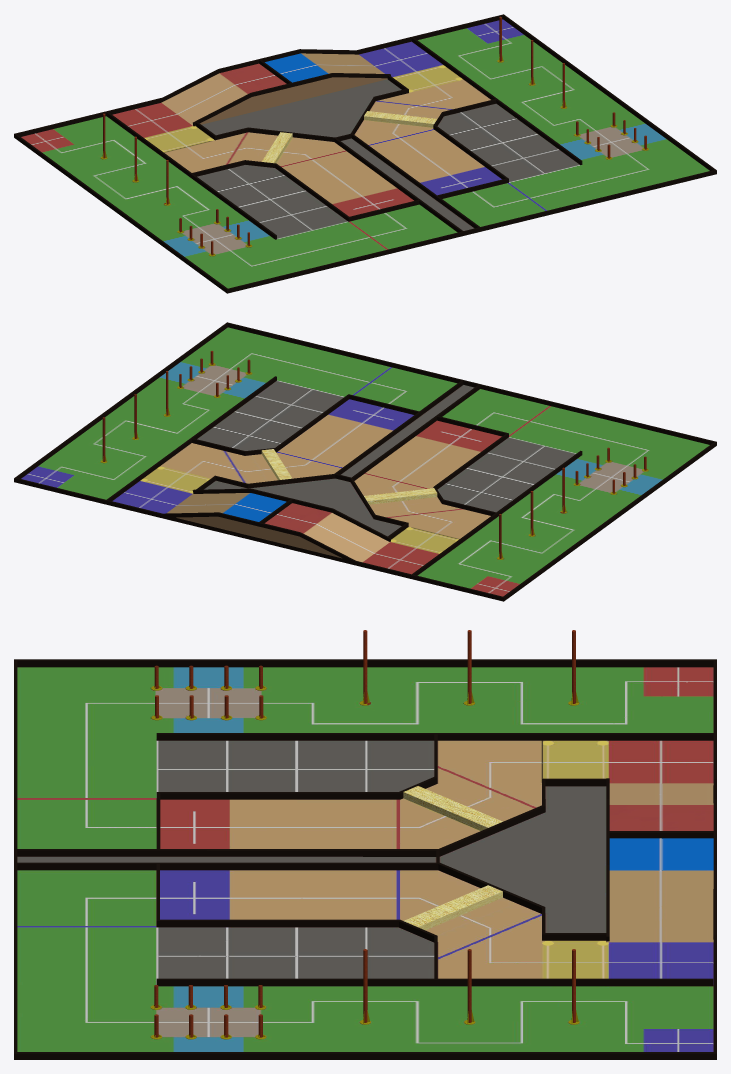
The model's file is Gamefieldv1.obj.
The picture shows the model from 3 angles, top to bottom: view 1: azimuth 30°, elevation 25°; view 2: azimuth 150°, elevation 25°; view 3: azimuth 270°, elevation 25°; orthographic projection. The views are drawn at different scales.
Visible parts, largest first — view 1: FloorPlane_Plane, Fences_Cube.002, Bridge_Cube.030, SandDune_Cube.032, ForestPole_Cube.044, BridgePole_Cylinder.054; view 2: FloorPlane_Plane, Fences_Cube.002, Bridge_Cube.030, SandDune_Cube.032, ForestPole_Cube.044, BridgePole_Cylinder.054; view 3: FloorPlane_Plane, Fences_Cube.002, Bridge_Cube.030, SandDune_Cube.032, ForestPole_Cube.044, BridgePole_Cylinder.054, BridgePoleBase_Cylinder.060.
Part boxes in pixels (bbox=[...]): FloorPlane_Plane: bbox=[21, 19, 709, 288]; Fences_Cube.002: bbox=[14, 14, 716, 293]; Bridge_Cube.030: bbox=[161, 53, 387, 126]; SandDune_Cube.032: bbox=[262, 111, 437, 163]; ForestPole_Cube.044: bbox=[103, 16, 564, 204]; BridgePole_Cylinder.054: bbox=[179, 112, 646, 255]; FloorPlane_Plane: bbox=[21, 327, 709, 596]; Fences_Cube.002: bbox=[14, 322, 716, 601]; Bridge_Cube.030: bbox=[167, 493, 390, 562]; SandDune_Cube.032: bbox=[261, 449, 437, 504]; ForestPole_Cube.044: bbox=[102, 371, 565, 558]; BridgePole_Cylinder.054: bbox=[179, 351, 646, 493]; FloorPlane_Plane: bbox=[17, 667, 713, 1051]; Fences_Cube.002: bbox=[14, 659, 716, 1059]; Bridge_Cube.030: bbox=[606, 783, 713, 942]; SandDune_Cube.032: bbox=[403, 786, 502, 930]; ForestPole_Cube.044: bbox=[363, 630, 575, 1022]; BridgePole_Cylinder.054: bbox=[154, 665, 263, 1037]; BridgePoleBase_Cylinder.060: bbox=[150, 685, 266, 1039].
Size of the model in its own units: 13.4 by 1.15 by 10.1.
7 materials, 6 textured.
